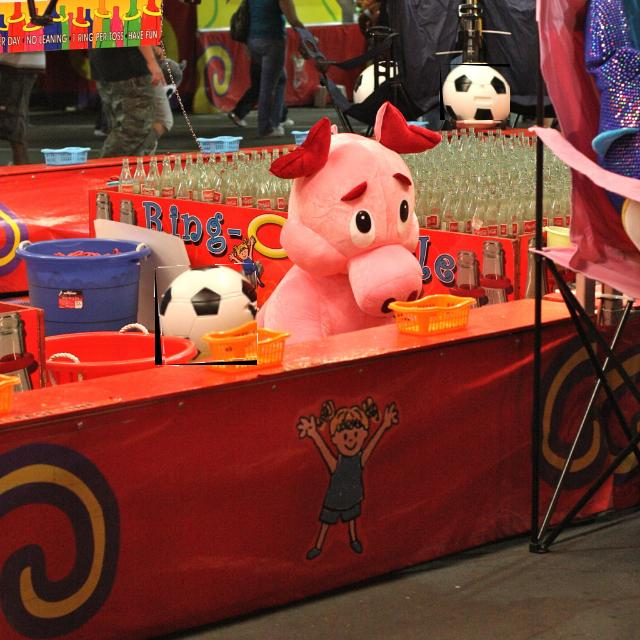Football: (155, 265, 257, 365), (440, 64, 510, 120)
